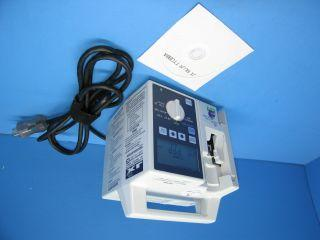plumxl1: (108, 83, 242, 227)
